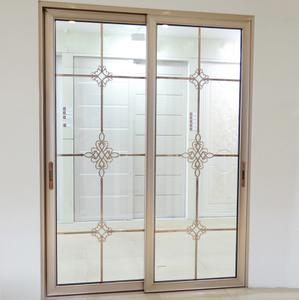door: (43, 8, 245, 291)
